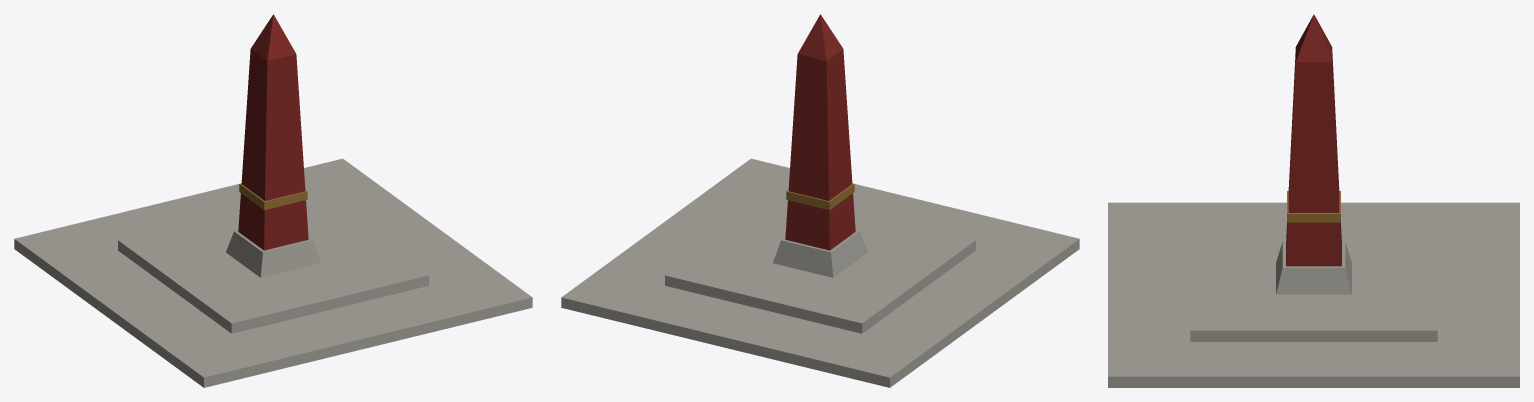
File: Monument2.fbx
3 renders of one model, left to right at view 1: azimuth 30°, elevation 25°; view 2: azimuth 150°, elevation 25°; view 3: azimuth 270°, elevation 25°, orthographic. The views are drawn at different scales.
Parts seen in each view (by area): view 1: Monument2; view 2: Monument2; view 3: Monument2.
Boxes of the visible parts, left/top/right/bottom form: Monument2: left=14, top=14, right=532, bottom=387; Monument2: left=561, top=14, right=1079, bottom=387; Monument2: left=1108, top=14, right=1519, bottom=387.
Bounding box in the file's own units: 5 × 3.84 × 5.
